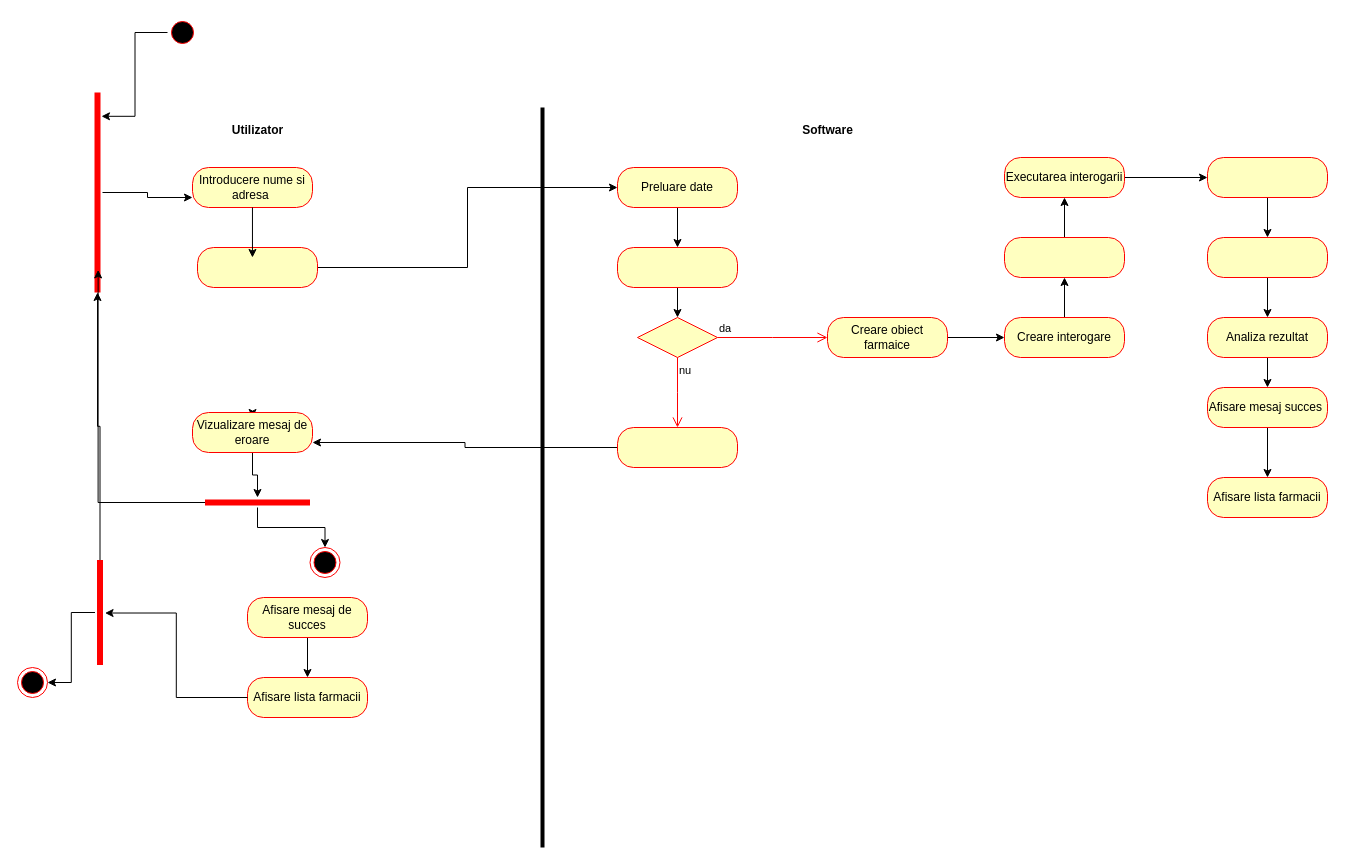
The diagram is 1345 pixels wide and 867 high, and some of its shapes have lost their labels. Each missing label, with the centre of its shape:
Afiseaza mesaj de eroare: point (677, 447)
Click buton adaugare: point (257, 267)
Conecatre la baza de date: point (1064, 257)
Deconectare de la baza de date: point (1267, 177)
Preluare rezultate interogare: point (1267, 257)
Validare date: point (677, 267)
